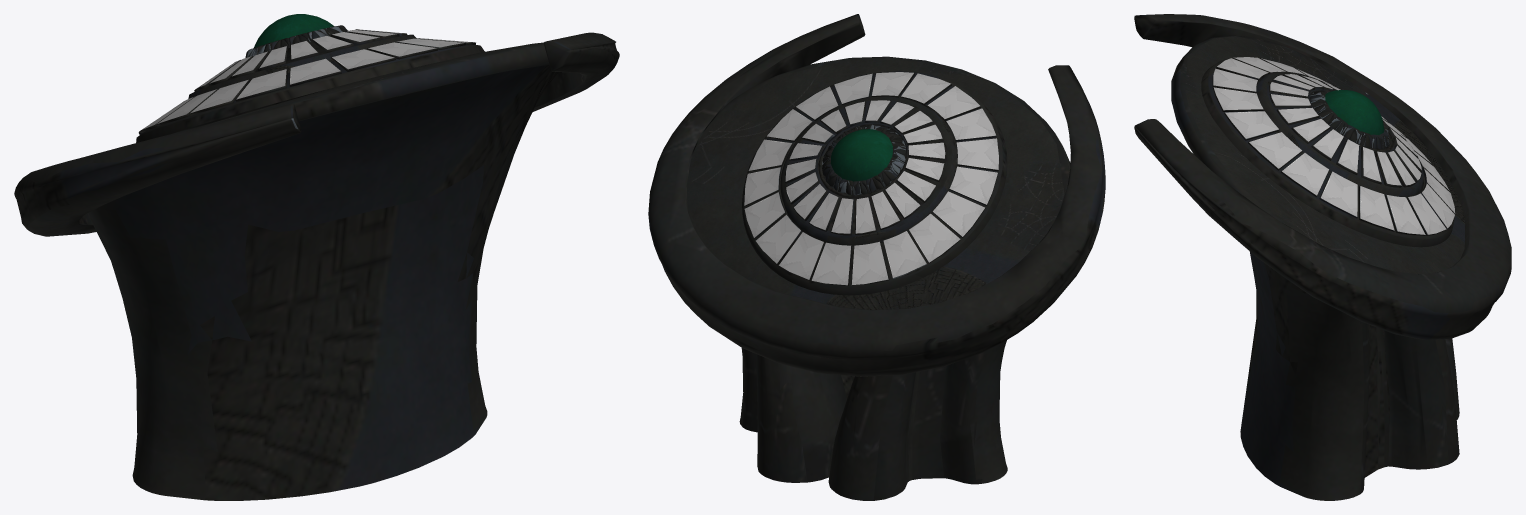
The model's file is dhd_handheld_pegasus.obj.
3 renders of one model, left to right at view 1: azimuth 30°, elevation 25°; view 2: azimuth 150°, elevation 25°; view 3: azimuth 270°, elevation 25°, orthographic. The views are drawn at different scales.
Visible parts, largest first — view 1: DHD_DHD_symbols_outer_Cylinder.001; view 2: DHD_DHD_symbols_outer_Cylinder.001; view 3: DHD_DHD_symbols_outer_Cylinder.001.
Boxes of the visible parts, box(x1,y1,x2,y2) form: DHD_DHD_symbols_outer_Cylinder.001: box(14, 14, 619, 500); DHD_DHD_symbols_outer_Cylinder.001: box(648, 14, 1105, 500); DHD_DHD_symbols_outer_Cylinder.001: box(1134, 14, 1511, 500).
Bounding box in the file's own units: 2.02 × 1.58 × 1.47.
